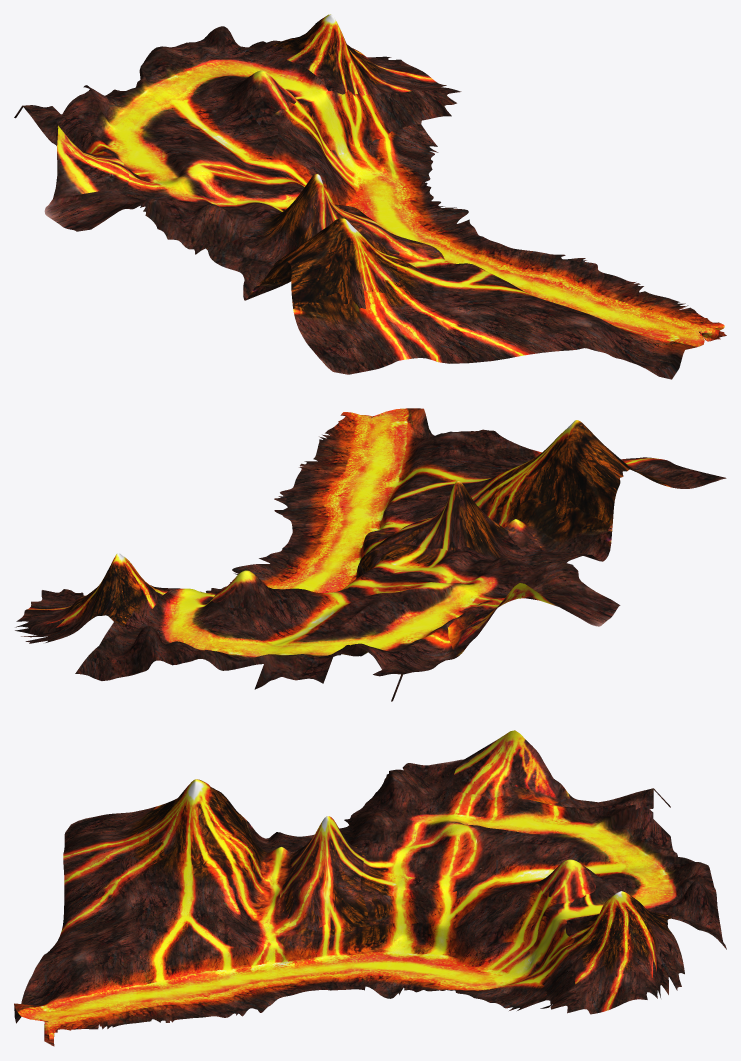
The model's file is montana.obj.
The picture shows the model from 3 angles, top to bottom: view 1: azimuth 30°, elevation 25°; view 2: azimuth 150°, elevation 25°; view 3: azimuth 270°, elevation 25°; orthographic projection. The views are drawn at different scales.
Visible parts, largest first — view 1: Montanas; view 2: Montanas; view 3: Montanas.
Part boxes in pixels (box(x1,y1,x2,y2)): Montanas: box(14, 14, 726, 379); Montanas: box(15, 408, 726, 701); Montanas: box(14, 730, 726, 1046).
Size of the model in its own units: 2.87 by 0.8478 by 3.97.
Materials: 1 (1 with a texture image).
